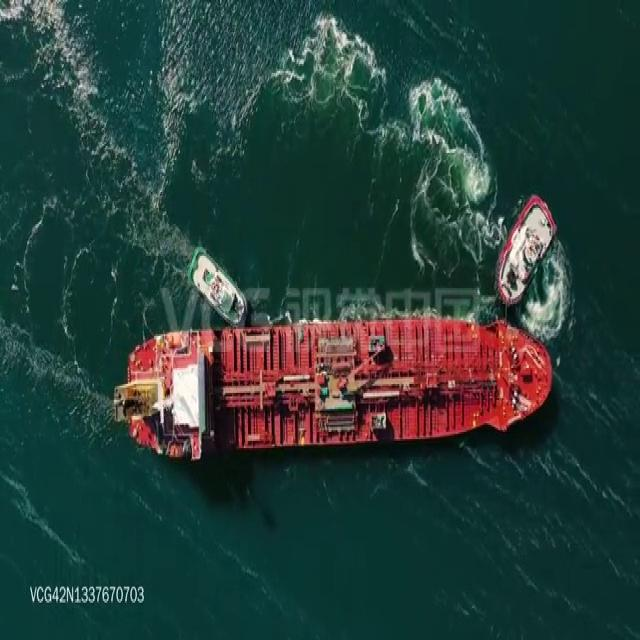cargoship: (114, 315, 550, 456)
houseboat: (495, 196, 557, 298), (188, 239, 250, 327)
